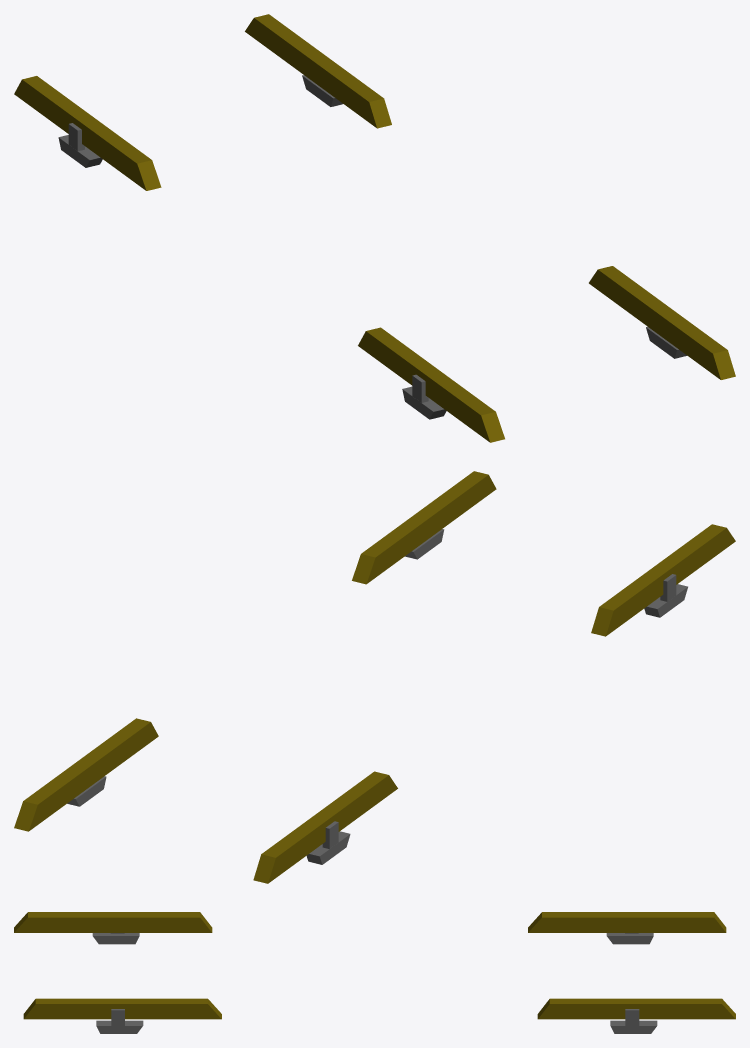
File: conductor-shoes.dae
The picture shows the model from 3 angles, top to bottom: view 1: azimuth 30°, elevation 25°; view 2: azimuth 150°, elevation 25°; view 3: azimuth 270°, elevation 25°; orthographic projection. The views are drawn at different scales.
Parts seen in each view (by area): view 1: Cube_049_002, Cube_049_001, Cube_049_003, Cube_049_004; view 2: Cube_049_001, Cube_049_002, Cube_049_003, Cube_049_004; view 3: Cube_049_001, Cube_049_002, Cube_049_003, Cube_049_004, Cube_062_005_001, Cube_062_005_002, Cube_062_005_003, Cube_062_005_004, Cube_063_005_002, Cube_063_005_001.
Boxes of the visible parts, x1,y1,x2,y2 form: Cube_049_002: (245, 14, 391, 128); Cube_049_001: (589, 266, 735, 379); Cube_049_003: (358, 327, 504, 442); Cube_049_004: (14, 76, 161, 190); Cube_049_001: (352, 471, 496, 584); Cube_049_002: (14, 718, 158, 831); Cube_049_003: (591, 524, 735, 636); Cube_049_004: (253, 771, 397, 883); Cube_049_001: (23, 998, 221, 1019); Cube_049_002: (537, 998, 735, 1019); Cube_049_003: (14, 912, 212, 932); Cube_049_004: (528, 912, 726, 932); Cube_062_005_001: (96, 1020, 143, 1033); Cube_062_005_002: (610, 1020, 657, 1033); Cube_062_005_003: (92, 933, 139, 944); Cube_062_005_004: (606, 933, 653, 944); Cube_063_005_002: (625, 1009, 639, 1025); Cube_063_005_001: (111, 1009, 124, 1025).
Bounding box in the file's own units: 1.84 × 5.91 × 0.2564.
